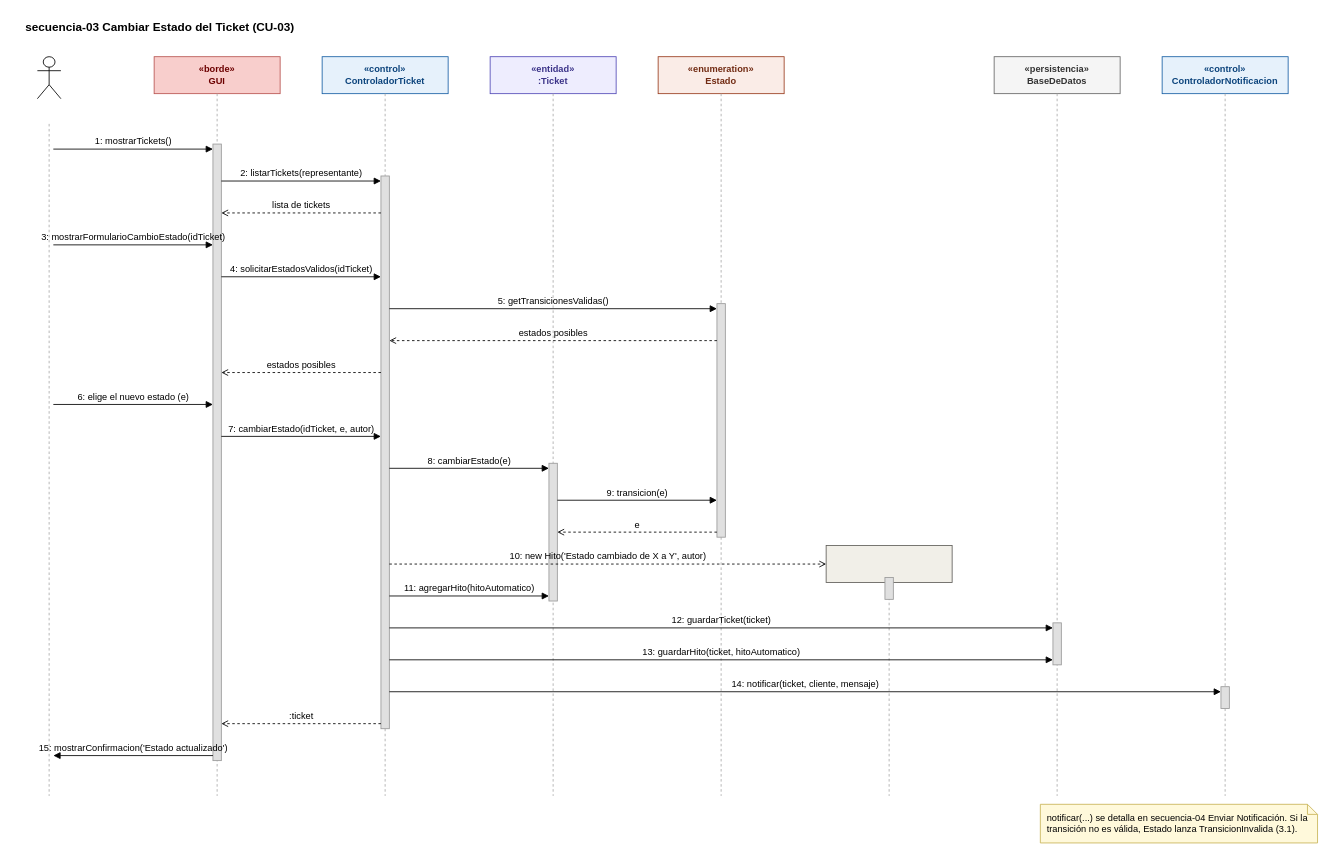
The diagram is 1332 pixels wide and 858 high, and some of its shapes have lost their labels. The box of each missing label's shape, as (x1, y1, x2, y2) in pixels:
Representante Telefónico: (37, 56, 61, 99)
«entidad» :Hito: (825, 545, 952, 583)
